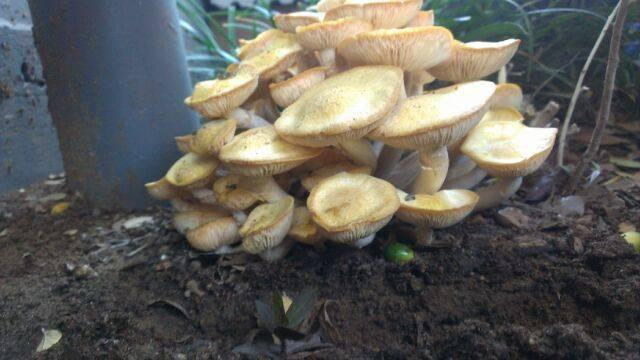edible_mushroom: (144, 0, 558, 260)
